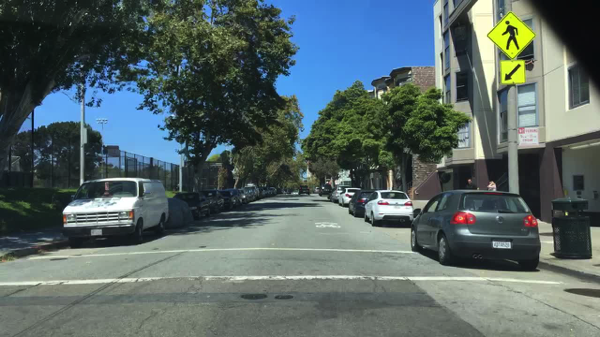car: (409, 190, 541, 270), (60, 176, 170, 248), (363, 189, 414, 227), (173, 192, 212, 220), (348, 188, 378, 218), (204, 189, 227, 214), (338, 187, 363, 207), (329, 184, 352, 204), (219, 190, 235, 212), (228, 188, 246, 205), (245, 184, 259, 204), (318, 183, 332, 198), (240, 188, 250, 205), (297, 184, 310, 195), (258, 187, 267, 198), (265, 187, 272, 197), (270, 187, 277, 195), (313, 186, 319, 194)
person: (465, 178, 477, 194), (487, 180, 497, 193)
traffic sign: (487, 12, 535, 60), (499, 59, 527, 85)
